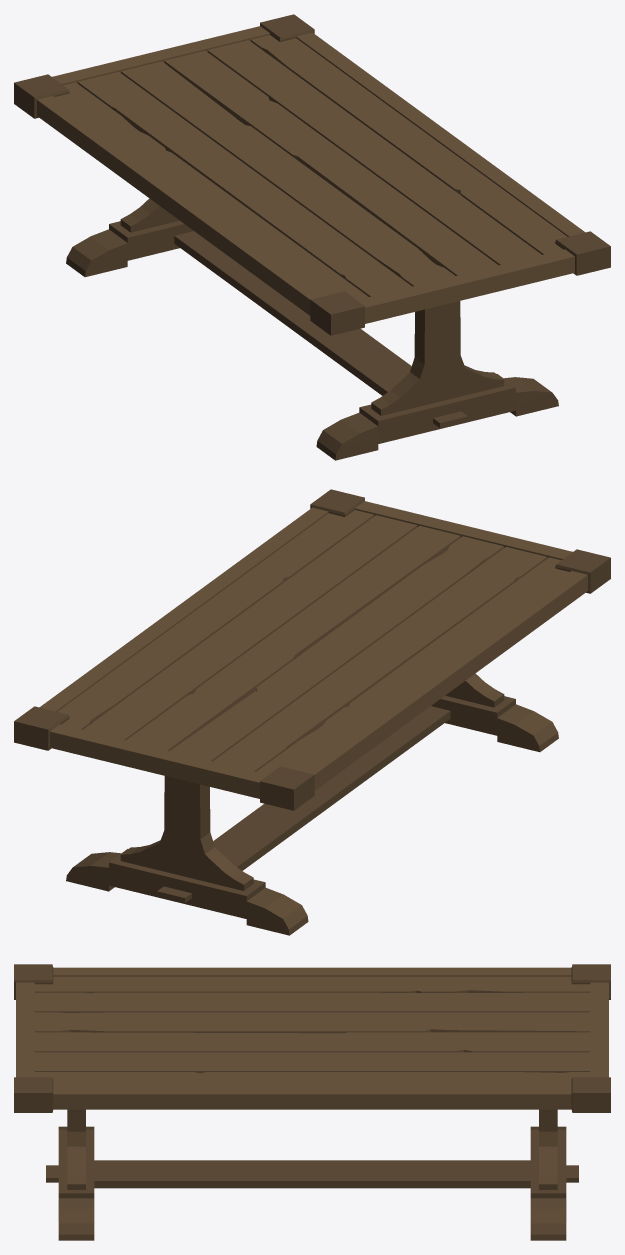
The model's file is Table.glb.
The picture shows the model from 3 angles, top to bottom: view 1: azimuth 30°, elevation 25°; view 2: azimuth 150°, elevation 25°; view 3: azimuth 270°, elevation 25°; orthographic projection. The views are drawn at different scales.
Parts seen in each view (by area): view 1: Table; view 2: Table; view 3: Table.
Part boxes in pixels (x1,y1,x2,y2): Table: (14, 14, 610, 460); Table: (14, 489, 610, 935); Table: (14, 964, 610, 1240).
Size of the model in its own units: 1.42 by 0.8244 by 2.78.
